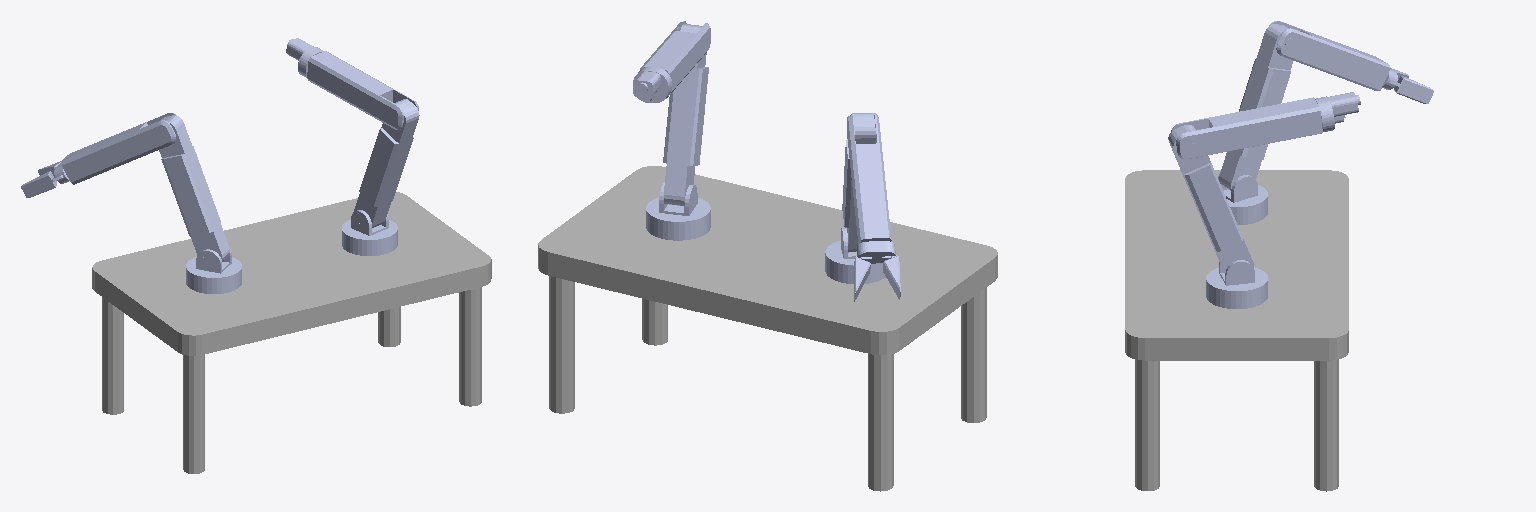
URDF robot description (Assem1.SLDASM):
<?xml version="1.0" encoding="utf-8"?>
<!-- This URDF was automatically created by SolidWorks to URDF Exporter! Originally created by [author] ([email redacted]) 
     Commit Version: 1.6.0-1-g15f4949  Build Version: 1.6.7594.29634
     For more information, please see http://wiki.ros.org/sw_urdf_exporter -->
<robot
  name="Assem1.SLDASM">
  <link
    name="base_link">
    <inertial>
      <origin
        xyz="0.795249334065263 -1.21453296357535 0.959631453694308"
        rpy="0 0 0" />
      <mass
        value="159.119312658077" />
      <inertia
        ixx="14.7845129371974"
        ixy="1.40946282423116E-15"
        ixz="5.9448140263073E-16"
        iyy="42.1012515488993"
        iyz="3.601201036036E-15"
        izz="51.4517328211401" />
    </inertial>
    <visual>
      <origin
        xyz="0 0 0"
        rpy="0 0 0" />
      <geometry>
        <mesh
          filename="package://Assem1.SLDASM/meshes/base_link.STL" />
      </geometry>
      <material
        name="">
        <color
          rgba="0.752941176470588 0.752941176470588 0.752941176470588 1" />
      </material>
    </visual>
    <collision>
      <origin
        xyz="0 0 0"
        rpy="0 0 0" />
      <geometry>
        <mesh
          filename="package://Assem1.SLDASM/meshes/base_link.STL" />
      </geometry>
    </collision>
  </link>
  <link
    name="LRB">
    <inertial>
      <origin
        xyz="0 0.115704485409189 0"
        rpy="0 0 0" />
      <mass
        value="4.96179871695205" />
      <inertia
        ixx="0.0253295765787538"
        ixy="1.15929159647691E-20"
        ixz="0"
        iyy="0.0328281290053756"
        iyz="-3.1533310406393E-19"
        izz="0.0249674475382577" />
    </inertial>
    <visual>
      <origin
        xyz="0 0 0"
        rpy="0 0 0" />
      <geometry>
        <mesh
          filename="package://Assem1.SLDASM/meshes/LRB.STL" />
      </geometry>
      <material
        name="">
        <color
          rgba="0.792156862745098 0.819607843137255 0.933333333333333 1" />
      </material>
    </visual>
    <collision>
      <origin
        xyz="0 0 0"
        rpy="0 0 0" />
      <geometry>
        <mesh
          filename="package://Assem1.SLDASM/meshes/LRB.STL" />
      </geometry>
    </collision>
  </link>
  <joint
    name="LRB"
    type="revolute">
    <origin
      xyz="1.19524933406526 -1.21453296357535 0.97119302642155"
      rpy="1.5707963267949 0 1.81304092939274" />
    <parent
      link="base_link" />
    <child
      link="LRB" />
    <axis
      xyz="0 1 0" />
    <limit
      lower="0"
      upper="0"
      effort="0"
      velocity="0" />
  </joint>
  <link
    name="LL1">
    <inertial>
      <origin
        xyz="-2.11035632758927E-05 0.302854628282347 1.11022302462516E-15"
        rpy="0 0 0" />
      <mass
        value="8.6006754009544" />
      <inertia
        ixx="0.316013338756673"
        ixy="-5.49695982633512E-05"
        ixz="-6.93889390390723E-18"
        iyy="0.0181452865087672"
        iyz="-1.07813064031959E-15"
        izz="0.314636386261611" />
    </inertial>
    <visual>
      <origin
        xyz="0 0 0"
        rpy="0 0 0" />
      <geometry>
        <mesh
          filename="package://Assem1.SLDASM/meshes/LL1.STL" />
      </geometry>
      <material
        name="">
        <color
          rgba="0.792156862745098 0.819607843137255 0.933333333333333 1" />
      </material>
    </visual>
    <collision>
      <origin
        xyz="0 0 0"
        rpy="0 0 0" />
      <geometry>
        <mesh
          filename="package://Assem1.SLDASM/meshes/LL1.STL" />
      </geometry>
    </collision>
  </link>
  <joint
    name="LL1"
    type="revolute">
    <origin
      xyz="0 0.225 0"
      rpy="-1.5708 1.5708 -1.2092" />
    <parent
      link="LRB" />
    <child
      link="LL1" />
    <axis
      xyz="1 0 0" />
    <limit
      lower="0"
      upper="0"
      effort="0"
      velocity="0" />
  </joint>
  <link
    name="LL2">
    <inertial>
      <origin
        xyz="3.09748954809841E-05 0.304140676103826 3.5527136788005E-15"
        rpy="0 0 0" />
      <mass
        value="6.52663293786977" />
      <inertia
        ixx="0.142302843492666"
        ixy="4.08331181633707E-06"
        ixz="1.06251812903579E-17"
        iyy="0.0161979601847754"
        iyz="-1.46258873068295E-15"
        izz="0.143073786637525" />
    </inertial>
    <visual>
      <origin
        xyz="0 0 0"
        rpy="0 0 0" />
      <geometry>
        <mesh
          filename="package://Assem1.SLDASM/meshes/LL2.STL" />
      </geometry>
      <material
        name="">
        <color
          rgba="0.792156862745098 0.819607843137255 0.933333333333333 1" />
      </material>
    </visual>
    <collision>
      <origin
        xyz="0 0 0"
        rpy="0 0 0" />
      <geometry>
        <mesh
          filename="package://Assem1.SLDASM/meshes/LL2.STL" />
      </geometry>
    </collision>
  </link>
  <joint
    name="LL2"
    type="revolute">
    <origin
      xyz="0 0.60596 0"
      rpy="1.3038 0 -3.1416" />
    <parent
      link="LL1" />
    <child
      link="LL2" />
    <axis
      xyz="1 0 0" />
    <limit
      lower="0"
      upper="0"
      effort="0"
      velocity="0" />
  </joint>
  <link
    name="LEE">
    <inertial>
      <origin
        xyz="0 -0.00783307073735928 -0.00940470190435083"
        rpy="0 0 0" />
      <mass
        value="1.64176902290727" />
      <inertia
        ixx="0.00697543022331686"
        ixy="2.53161207275365E-17"
        ixz="5.77337656848531E-18"
        iyy="0.00293510312538361"
        iyz="-0.000973014959238163"
        izz="0.0068587359514973" />
    </inertial>
    <visual>
      <origin
        xyz="0 0 0"
        rpy="0 0 0" />
      <geometry>
        <mesh
          filename="package://Assem1.SLDASM/meshes/LEE.STL" />
      </geometry>
      <material
        name="">
        <color
          rgba="0.792156862745098 0.819607843137255 0.933333333333333 1" />
      </material>
    </visual>
    <collision>
      <origin
        xyz="0 0 0"
        rpy="0 0 0" />
      <geometry>
        <mesh
          filename="package://Assem1.SLDASM/meshes/LEE.STL" />
      </geometry>
    </collision>
  </link>
  <joint
    name="LEE"
    type="fixed">
    <origin
      xyz="0 0.59298 0"
      rpy="3.1416 0 0" />
    <parent
      link="LL2" />
    <child
      link="LEE" />
    <axis
      xyz="0 0 0" />
  </joint>
  <link
    name="RRB">
    <inertial>
      <origin
        xyz="-2.22044604925031E-16 0.115704485409189 5.55111512312578E-17"
        rpy="0 0 0" />
      <mass
        value="4.96179871695205" />
      <inertia
        ixx="0.0253295765787538"
        ixy="2.02885658936983E-18"
        ixz="4.33680868994202E-18"
        iyy="0.0328281290053756"
        iyz="7.16172762528978E-20"
        izz="0.0249674475382577" />
    </inertial>
    <visual>
      <origin
        xyz="0 0 0"
        rpy="0 0 0" />
      <geometry>
        <mesh
          filename="package://Assem1.SLDASM/meshes/RRB.STL" />
      </geometry>
      <material
        name="">
        <color
          rgba="0.792156862745098 0.819607843137255 0.933333333333333 1" />
      </material>
    </visual>
    <collision>
      <origin
        xyz="0 0 0"
        rpy="0 0 0" />
      <geometry>
        <mesh
          filename="package://Assem1.SLDASM/meshes/RRB.STL" />
      </geometry>
    </collision>
  </link>
  <joint
    name="RRB"
    type="revolute">
    <origin
      xyz="0.39525 -1.2145 0.97119"
      rpy="1.5708 0 2.1944" />
    <parent
      link="base_link" />
    <child
      link="RRB" />
    <axis
      xyz="0 1 0" />
    <limit
      lower="0"
      upper="0"
      effort="0"
      velocity="0" />
  </joint>
  <link
    name="RL1">
    <inertial>
      <origin
        xyz="0.0499788964367285 0.302571427005066 0.0130941755050991"
        rpy="0 0 0" />
      <mass
        value="8.6006754009544" />
      <inertia
        ixx="0.316013338756673"
        ixy="-5.49181958495587E-05"
        ixz="-2.37665698310519E-06"
        iyy="0.0186995286529461"
        iyz="-0.0128070558093028"
        izz="0.314082144117432" />
    </inertial>
    <visual>
      <origin
        xyz="0 0 0"
        rpy="0 0 0" />
      <geometry>
        <mesh
          filename="package://Assem1.SLDASM/meshes/RL1.STL" />
      </geometry>
      <material
        name="">
        <color
          rgba="0.792156862745098 0.819607843137255 0.933333333333333 1" />
      </material>
    </visual>
    <collision>
      <origin
        xyz="0 0 0"
        rpy="0 0 0" />
      <geometry>
        <mesh
          filename="package://Assem1.SLDASM/meshes/RL1.STL" />
      </geometry>
    </collision>
  </link>
  <joint
    name="RL1"
    type="revolute">
    <origin
      xyz="0 0.225 0.05"
      rpy="1.2978 1.5708 0.96851" />
    <parent
      link="RRB" />
    <child
      link="RL1" />
    <axis
      xyz="1 0 0" />
    <limit
      lower="0"
      upper="0"
      effort="0"
      velocity="0" />
  </joint>
  <link
    name="RL2">
    <inertial>
      <origin
        xyz="-0.0499690251045432 0.329861167352755 0.0050174769430662"
        rpy="0 0 0" />
      <mass
        value="6.52663293786975" />
      <inertia
        ixx="0.142302843492665"
        ixy="4.08331182574729E-06"
        ixz="1.73472347597681E-17"
        iyy="0.0161979601847753"
        iyz="1.05167610731094E-15"
        izz="0.143073786637524" />
    </inertial>
    <visual>
      <origin
        xyz="0 0 0"
        rpy="0 0 0" />
      <geometry>
        <mesh
          filename="package://Assem1.SLDASM/meshes/RL2.STL" />
      </geometry>
      <material
        name="">
        <color
          rgba="0.792156862745098 0.819607843137255 0.933333333333333 1" />
      </material>
    </visual>
    <collision>
      <origin
        xyz="0 0 0"
        rpy="0 0 0" />
      <geometry>
        <mesh
          filename="package://Assem1.SLDASM/meshes/RL2.STL" />
      </geometry>
    </collision>
  </link>
  <joint
    name="RL2"
    type="revolute">
    <origin
      xyz="0 0.60596 0"
      rpy="1.3565 0 3.1416" />
    <parent
      link="RL1" />
    <child
      link="RL2" />
    <axis
      xyz="1 0 0" />
    <limit
      lower="0"
      upper="0"
      effort="0"
      velocity="0" />
  </joint>
  <link
    name="REE">
    <inertial>
      <origin
        xyz="-5.55111512312578E-16 0.0161183788851191 -0.00501747694306887"
        rpy="0 0 0" />
      <mass
        value="0.627722951444727" />
      <inertia
        ixx="0.000943209835149829"
        ixy="-2.43945488809238E-19"
        ixz="9.89334482393023E-19"
        iyy="0.000957754908612675"
        iyz="1.43656787854329E-18"
        izz="0.0013552611629626" />
    </inertial>
    <visual>
      <origin
        xyz="0 0 0"
        rpy="0 0 0" />
      <geometry>
        <mesh
          filename="package://Assem1.SLDASM/meshes/REE.STL" />
      </geometry>
      <material
        name="">
        <color
          rgba="0.792156862745098 0.819607843137255 0.933333333333333 1" />
      </material>
    </visual>
    <collision>
      <origin
        xyz="0 0 0"
        rpy="0 0 0" />
      <geometry>
        <mesh
          filename="package://Assem1.SLDASM/meshes/REE.STL" />
      </geometry>
    </collision>
  </link>
  <joint
    name="REE"
    type="fixed">
    <origin
      xyz="-0.05 0.60298 0"
      rpy="3.1416 0 0" />
    <parent
      link="RL2" />
    <child
      link="REE" />
    <axis
      xyz="0 0 0" />
  </joint>
  <link
    name="LGC">
    <inertial>
      <origin
        xyz="-0.0352673887801307 -0.00501747694306931 0.0812819725890273"
        rpy="0 0 0" />
      <mass
        value="0.39557211032727" />
      <inertia
        ixx="0.00076615284247255"
        ixy="7.55553388950836E-19"
        ixz="0.000156343609568062"
        iyy="0.000736606264168439"
        iyz="-1.97866896478605E-18"
        izz="0.000269424306077304" />
    </inertial>
    <visual>
      <origin
        xyz="0 0 0"
        rpy="0 0 0" />
      <geometry>
        <mesh
          filename="package://Assem1.SLDASM/meshes/LGC.STL" />
      </geometry>
      <material
        name="">
        <color
          rgba="0.792156862745098 0.819607843137255 0.933333333333333 1" />
      </material>
    </visual>
    <collision>
      <origin
        xyz="0 0 0"
        rpy="0 0 0" />
      <geometry>
        <mesh
          filename="package://Assem1.SLDASM/meshes/LGC.STL" />
      </geometry>
    </collision>
  </link>
  <joint
    name="LCG"
    type="revolute">
    <origin
      xyz="0.064 -0.01372 0"
      rpy="1.5708 0 0.49145" />
    <parent
      link="REE" />
    <child
      link="LGC" />
    <axis
      xyz="0 -1 0" />
    <limit
      lower="0"
      upper="0"
      effort="0"
      velocity="0" />
  </joint>
  <link
    name="RGC">
    <inertial>
      <origin
        xyz="0.000168394996165 0.00501747694306809 0.114306592811268"
        rpy="0 0 0" />
      <mass
        value="0.39557211032727" />
      <inertia
        ixx="0.000802765969087002"
        ixy="2.43945488809238E-19"
        ixz="-7.0114323901997E-05"
        iyy="0.000736606264168439"
        iyz="1.56531688652595E-18"
        izz="0.000232811179462852" />
    </inertial>
    <visual>
      <origin
        xyz="0 0 0"
        rpy="0 0 0" />
      <geometry>
        <mesh
          filename="package://Assem1.SLDASM/meshes/RGC.STL" />
      </geometry>
      <material
        name="">
        <color
          rgba="0.792156862745098 0.819607843137255 0.933333333333333 1" />
      </material>
    </visual>
    <collision>
      <origin
        xyz="0 0 0"
        rpy="0 0 0" />
      <geometry>
        <mesh
          filename="package://Assem1.SLDASM/meshes/RGC.STL" />
      </geometry>
    </collision>
  </link>
  <joint
    name="RGC"
    type="revolute">
    <origin
      xyz="-0.064 0.012 0"
      rpy="-1.5708 0 -3.108" />
    <parent
      link="REE" />
    <child
      link="RGC" />
    <axis
      xyz="0 1 0" />
    <limit
      lower="0"
      upper="0"
      effort="0"
      velocity="0" />
  </joint>
</robot>

--- Facts derived from the render (not from the file) ---
Views: 3 orthographic renders of the robot side by side, from view 1: azimuth 30°, elevation 25°; view 2: azimuth 150°, elevation 25°; view 3: azimuth 270°, elevation 25°.
Robot: Assem1.SLDASM — 11 links, 10 joints (8 revolute, 2 fixed); root link base_link; default pose: all joints at 0.
Visible links, largest first — view 1: base_link, RL1, LL1, LL2, RL2, RRB, LRB, LEE, RGC; view 2: base_link, LL1, RL2, LRB, LL2, RL1, RRB, LEE, REE; view 3: base_link, LL2, LL1, RL1, RL2, LRB, RRB, LEE, LGC.
Link boxes in pixels (x1=…): base_link: x1=92, y1=192, x2=491, y2=473; RL1: x1=158, y1=115, x2=229, y2=262; LL1: x1=354, y1=99, x2=419, y2=227; LL2: x1=307, y1=51, x2=418, y2=129; RL2: x1=61, y1=113, x2=175, y2=184; RRB: x1=186, y1=249, x2=241, y2=293; LRB: x1=342, y1=210, x2=397, y2=255; LEE: x1=286, y1=38, x2=323, y2=77; RGC: x1=21, y1=171, x2=62, y2=197; base_link: x1=538, y1=166, x2=997, y2=491; LL1: x1=663, y1=24, x2=709, y2=205; RL2: x1=847, y1=113, x2=891, y2=243; LRB: x1=646, y1=182, x2=710, y2=240; LL2: x1=640, y1=21, x2=710, y2=98; RL1: x1=842, y1=113, x2=875, y2=252; RRB: x1=825, y1=228, x2=885, y2=283; LEE: x1=633, y1=67, x2=671, y2=102; REE: x1=856, y1=241, x2=895, y2=263; base_link: x1=1125, y1=170, x2=1348, y2=491; LL2: x1=1171, y1=97, x2=1322, y2=158; LL1: x1=1168, y1=125, x2=1253, y2=274; RL1: x1=1219, y1=24, x2=1294, y2=190; RL2: x1=1269, y1=21, x2=1390, y2=90; LRB: x1=1206, y1=260, x2=1267, y2=308; RRB: x1=1218, y1=174, x2=1267, y2=224; LEE: x1=1315, y1=92, x2=1360, y2=131; LGC: x1=1389, y1=76, x2=1433, y2=103.
Size in the robot's own frame: 1.79 by 1.25 by 1.54 metres.
11 mesh visuals loaded from 11 distinct referenced files (11 binary STL).
